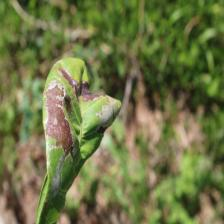leaf miner: (33, 56, 122, 224)
